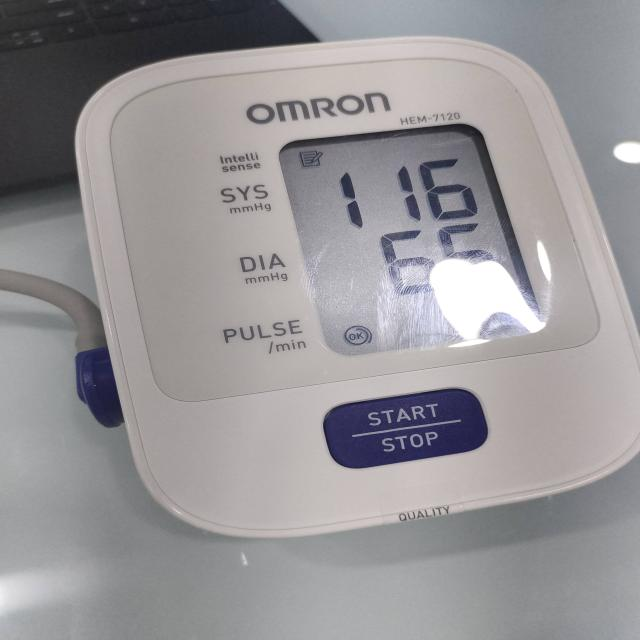bp: (73, 37, 640, 542)
